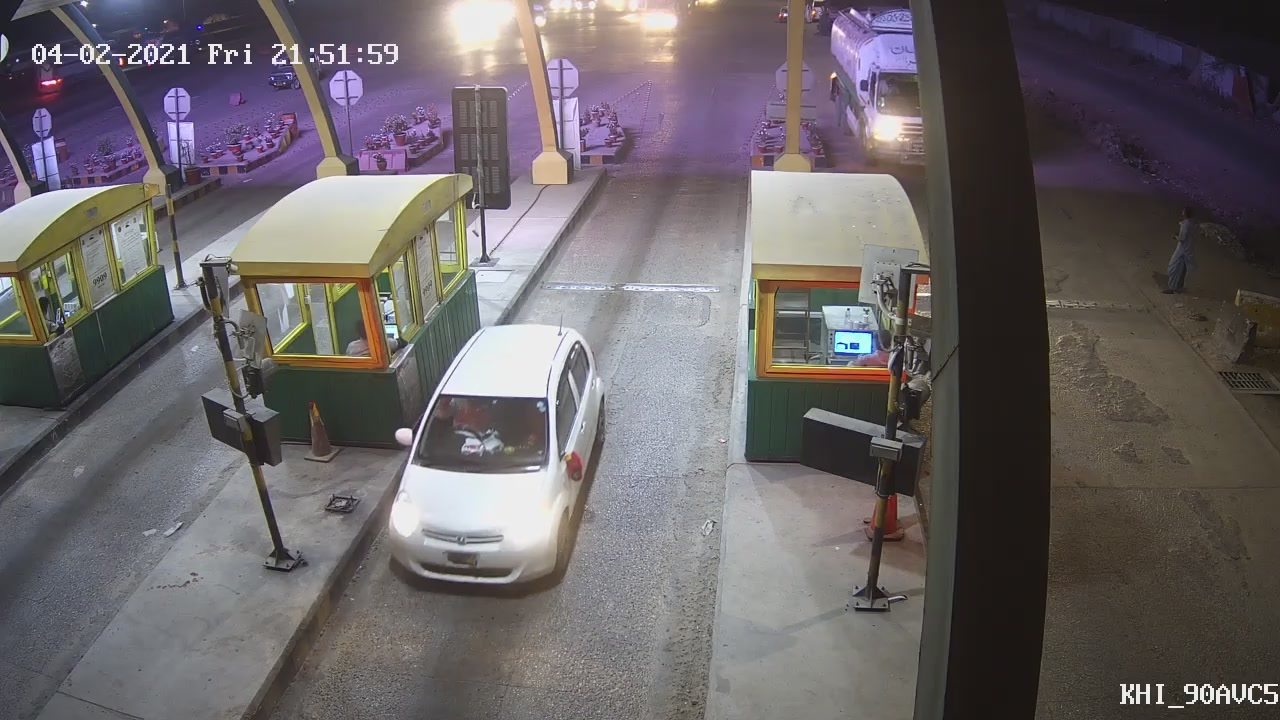F1: (382, 312, 611, 588)
